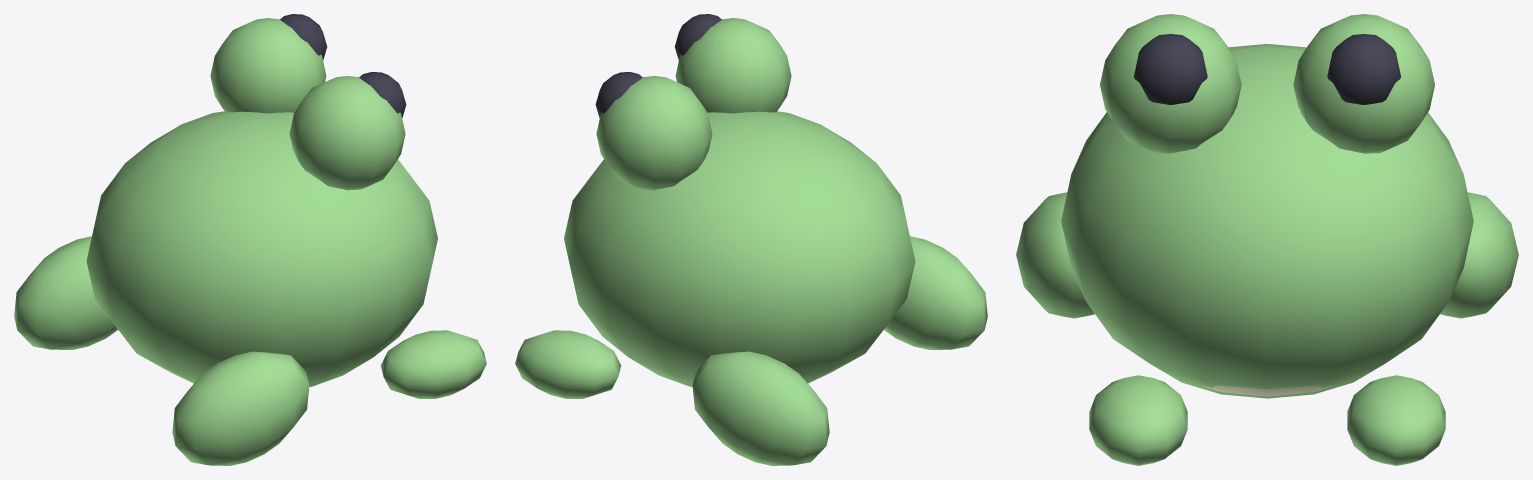
Rendered from frog.glb.
The picture shows the model from 3 angles, left to right: view 1: azimuth 30°, elevation 25°; view 2: azimuth 150°, elevation 25°; view 3: azimuth 270°, elevation 25°; orthographic projection. The views are drawn at different scales.
Visible parts, largest first — view 1: Body, BackLegLeft, EyeBumpLeft, EyeBumpRight, BackLegRight, FrontFootLeft, EyeLeft, EyeRight; view 2: Body, BackLegRight, EyeBumpRight, EyeBumpLeft, BackLegLeft, FrontFootRight, EyeLeft, EyeRight; view 3: Body, EyeBumpLeft, EyeBumpRight, FrontFootLeft, FrontFootRight, BackLegLeft, BackLegRight, EyeLeft, EyeRight, Belly.
Part boxes in pixels (bbox=[...]): Body: bbox=[86, 111, 437, 386]; BackLegLeft: bbox=[172, 351, 309, 465]; EyeBumpLeft: bbox=[289, 76, 405, 190]; EyeBumpRight: bbox=[210, 18, 326, 113]; BackLegRight: bbox=[14, 236, 117, 349]; FrontFootLeft: bbox=[380, 330, 486, 398]; EyeLeft: bbox=[359, 72, 406, 117]; EyeRight: bbox=[280, 14, 327, 60]; Body: bbox=[564, 111, 915, 386]; BackLegRight: bbox=[692, 351, 829, 465]; EyeBumpRight: bbox=[596, 76, 712, 190]; EyeBumpLeft: bbox=[675, 18, 791, 113]; BackLegLeft: bbox=[884, 236, 987, 349]; FrontFootRight: bbox=[515, 330, 621, 398]; EyeLeft: bbox=[674, 14, 721, 60]; EyeRight: bbox=[595, 72, 642, 117]; Body: bbox=[1061, 44, 1473, 398]; EyeBumpLeft: bbox=[1100, 14, 1241, 153]; EyeBumpRight: bbox=[1293, 14, 1434, 153]; FrontFootLeft: bbox=[1089, 375, 1187, 465]; FrontFootRight: bbox=[1347, 375, 1445, 465]; BackLegLeft: bbox=[1016, 192, 1094, 318]; BackLegRight: bbox=[1440, 192, 1518, 318]; EyeLeft: bbox=[1134, 34, 1207, 105]; EyeRight: bbox=[1327, 34, 1400, 105]; Belly: bbox=[1200, 385, 1334, 396].
Size of the model in its own units: 0.7333 by 0.67 by 0.78.
